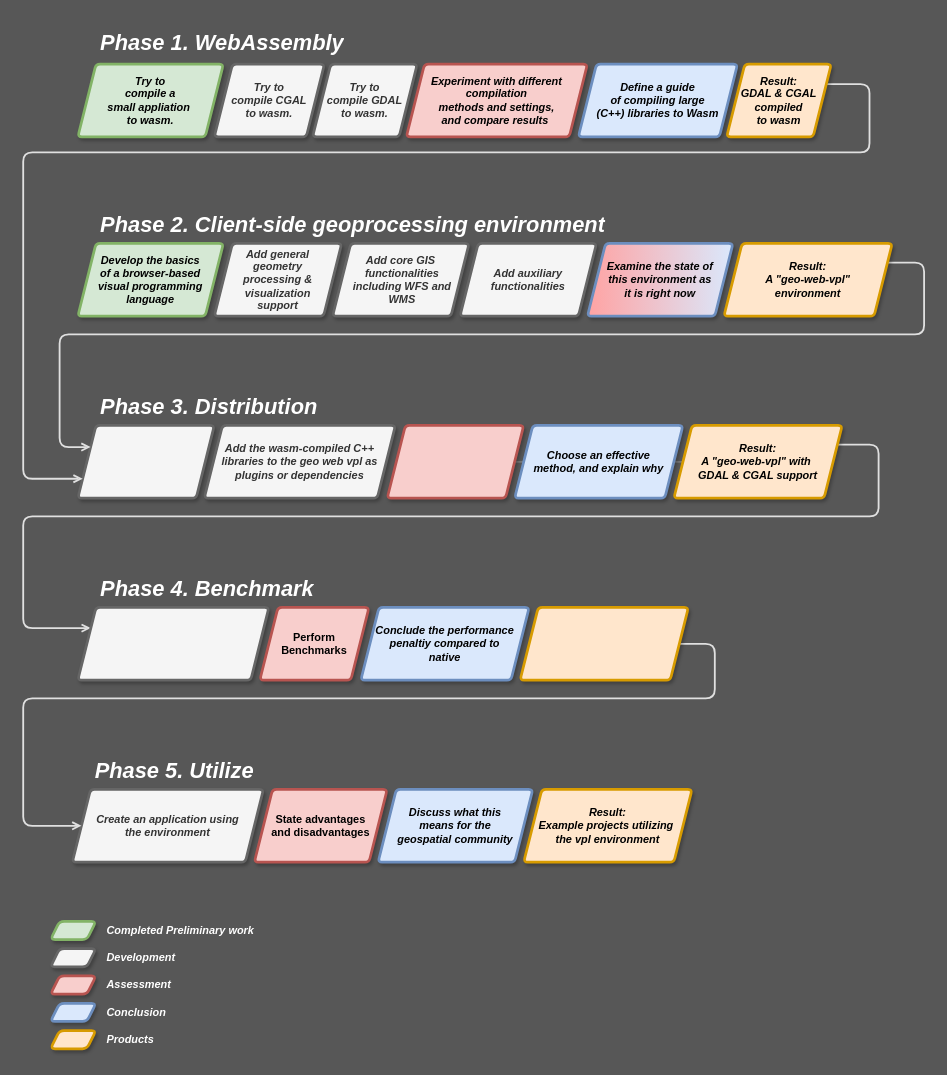
This 947x1075 diagram has some shape labels left out. Each missing label, with the centre of its shape:
"Add wasm plugin support to the geo web vpl" goes at [146,463].
"Experiment with different distribution strategies and considerations" goes at [456,463].
"Result: A more performant environment" goes at [605,645].
"Setup a 'benchmark test suite'" goes at [173,645].
